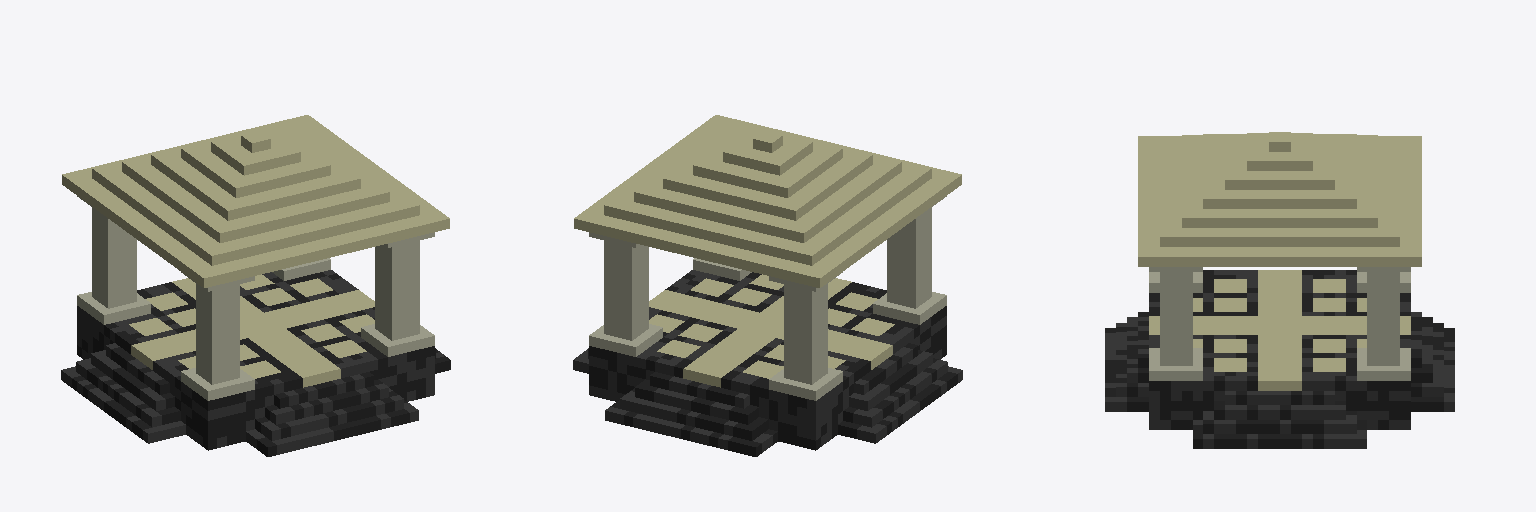
3 renders of one model, left to right at view 1: azimuth 30°, elevation 25°; view 2: azimuth 150°, elevation 25°; view 3: azimuth 270°, elevation 25°, orthographic.
Parts seen in each view (by area): view 1: ARENA-0; view 2: ARENA-0; view 3: ARENA-0.
Part boxes in pixels (x1,y1,x2,y2): ARENA-0: (61,115,450,456); ARENA-0: (573,115,962,456); ARENA-0: (1105,132,1454,448).
Bounding box in the file's own units: 32 × 24 × 32.
Materials: 1 (1 with a texture image).